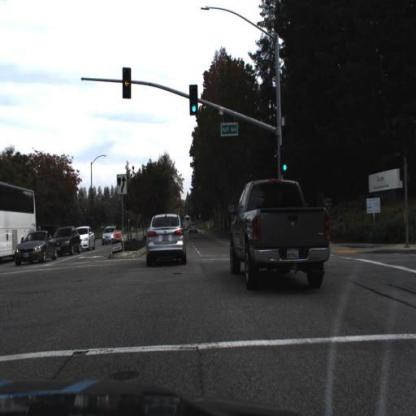car: (231, 178, 332, 291), (146, 212, 188, 265), (16, 230, 59, 266), (57, 228, 82, 254), (80, 226, 94, 251), (104, 227, 117, 243)
trafficLight: (123, 68, 133, 101)
trafficLight-Green: (190, 87, 200, 116), (282, 146, 292, 174)
truck: (1, 184, 39, 262)
